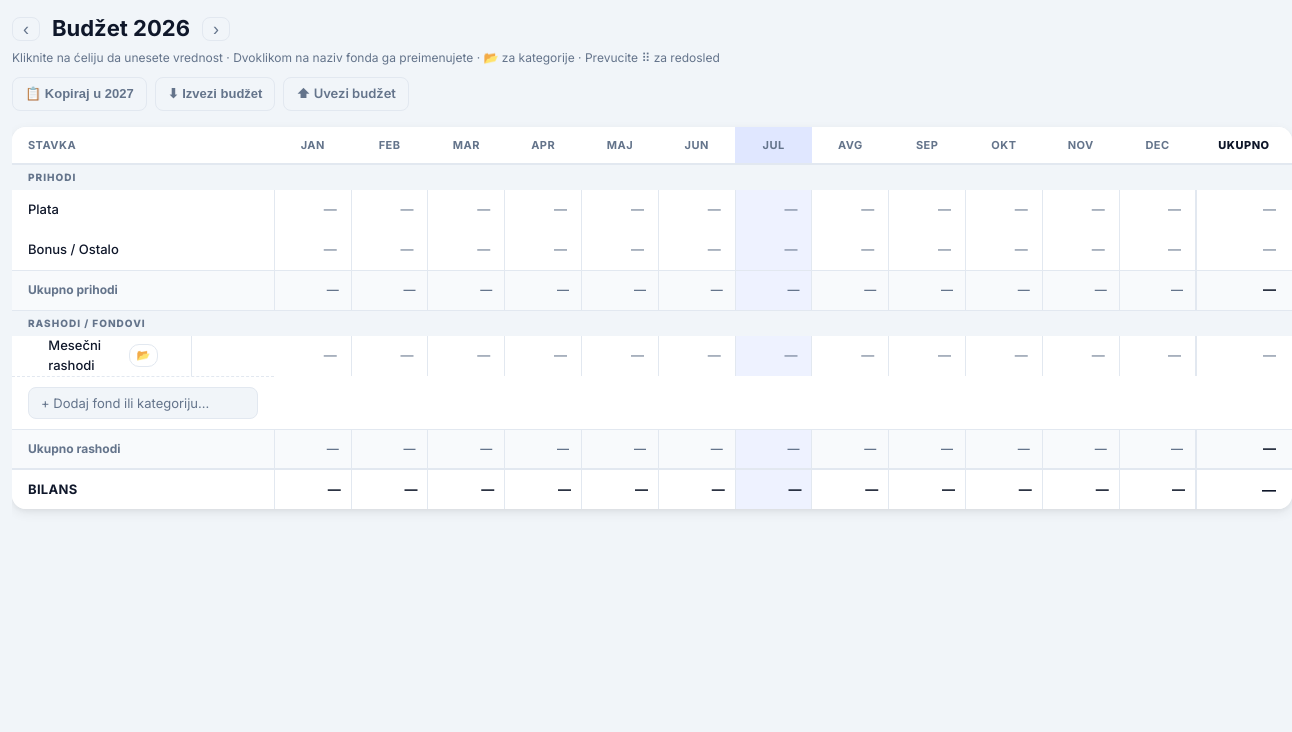
Test: BudgetView — inline tracking panel › shows "Nema kategorija" message when no expense categories exist
Click the button titled "Kategorije troškova za ovaj fond". click: (143, 356)
box: [128, 344, 158, 367]
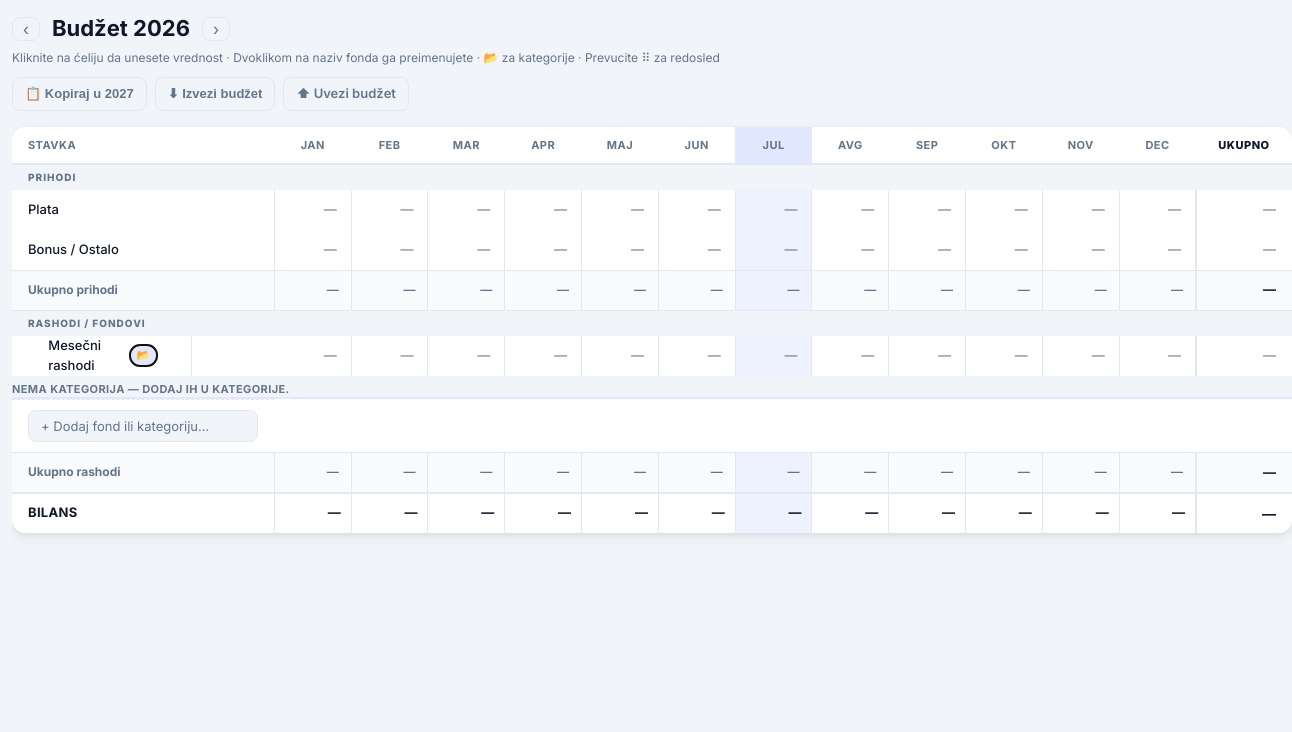
expect the text "Nema kategorija — dodaj ih u Kategorije." is shown: met, box [12, 376, 290, 397]
